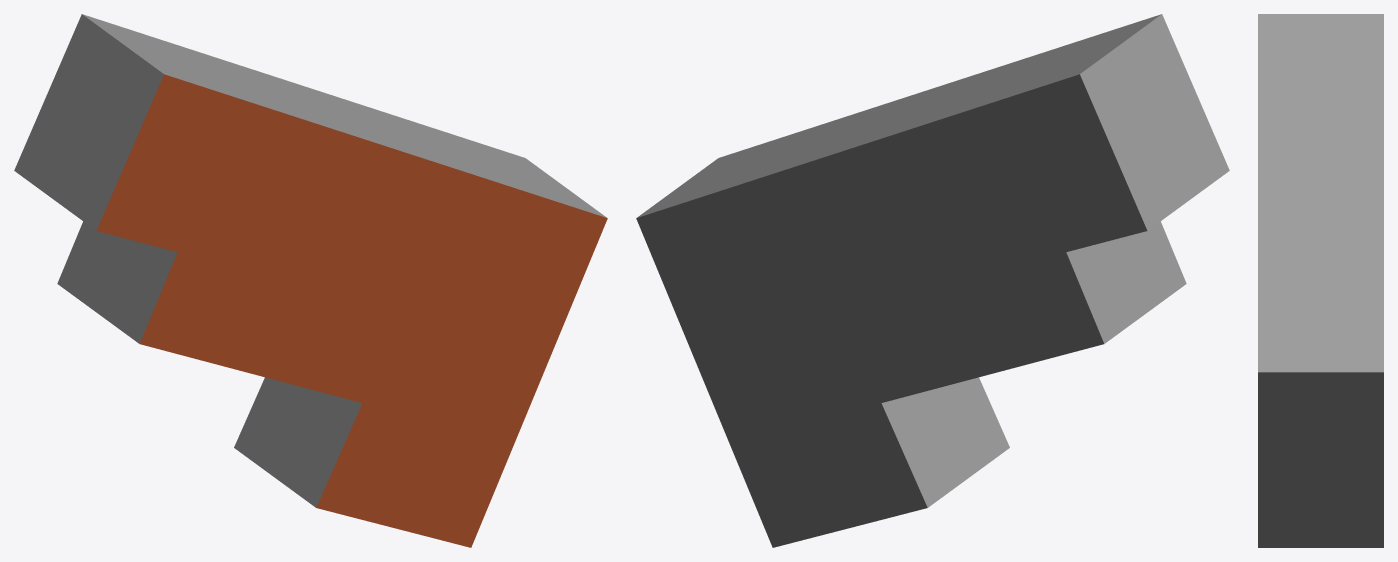
Rendered from construction_6177_assumed_A_Casa_h6m.obj.
3 views of the same model, side by side, from view 1: azimuth 30°, elevation 25°; view 2: azimuth 150°, elevation 25°; view 3: azimuth 270°, elevation 25° (orthographic). The views are drawn at different scales.
Parts seen in each view (by area): view 1: construction_6177_assumed_A_Casa; view 2: construction_6177_assumed_A_Casa; view 3: construction_6177_assumed_A_Casa.
Boxes of the visible parts, bbox=[...] form: construction_6177_assumed_A_Casa: bbox=[14, 14, 607, 547]; construction_6177_assumed_A_Casa: bbox=[636, 14, 1229, 547]; construction_6177_assumed_A_Casa: bbox=[1258, 14, 1383, 547].
Bounding box in the file's own units: 21.52 × 22.06 × 6.
